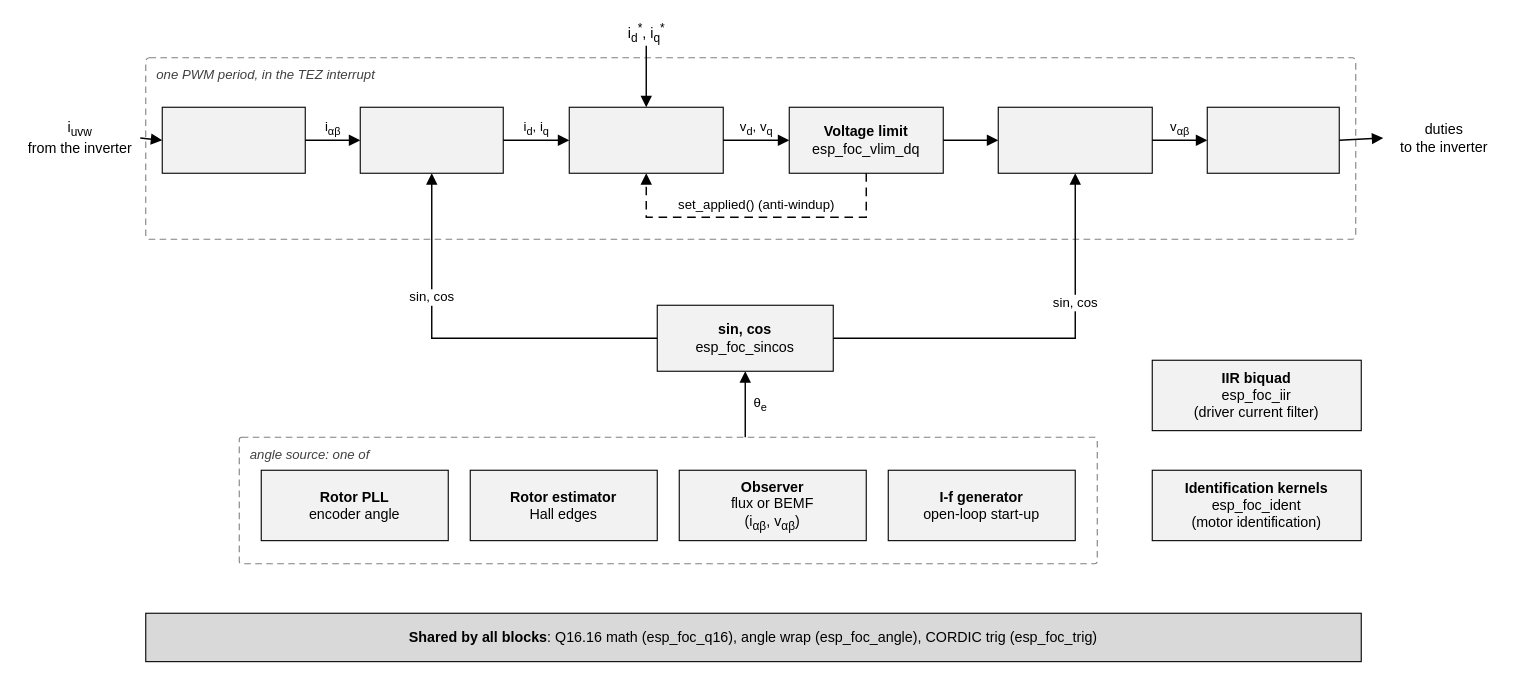
Some shapes in this 1522 by 681 pixel diagram are drawn without their labels. The shapes that lost their labels are listed below. From the top down, each one's centre as x and y in pixels, then its label:
the point at 233,139: Clarke esp_foc_clarke
the point at 431,139: Park esp_foc_park
the point at 645,139: PI d, PI q esp_foc_pid
the point at 1074,139: Inverse Park esp_foc_inv_park
the point at 1272,139: SVM esp_foc_svm
